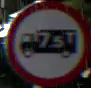Heavy Vehicles: (7, 2, 89, 85)
